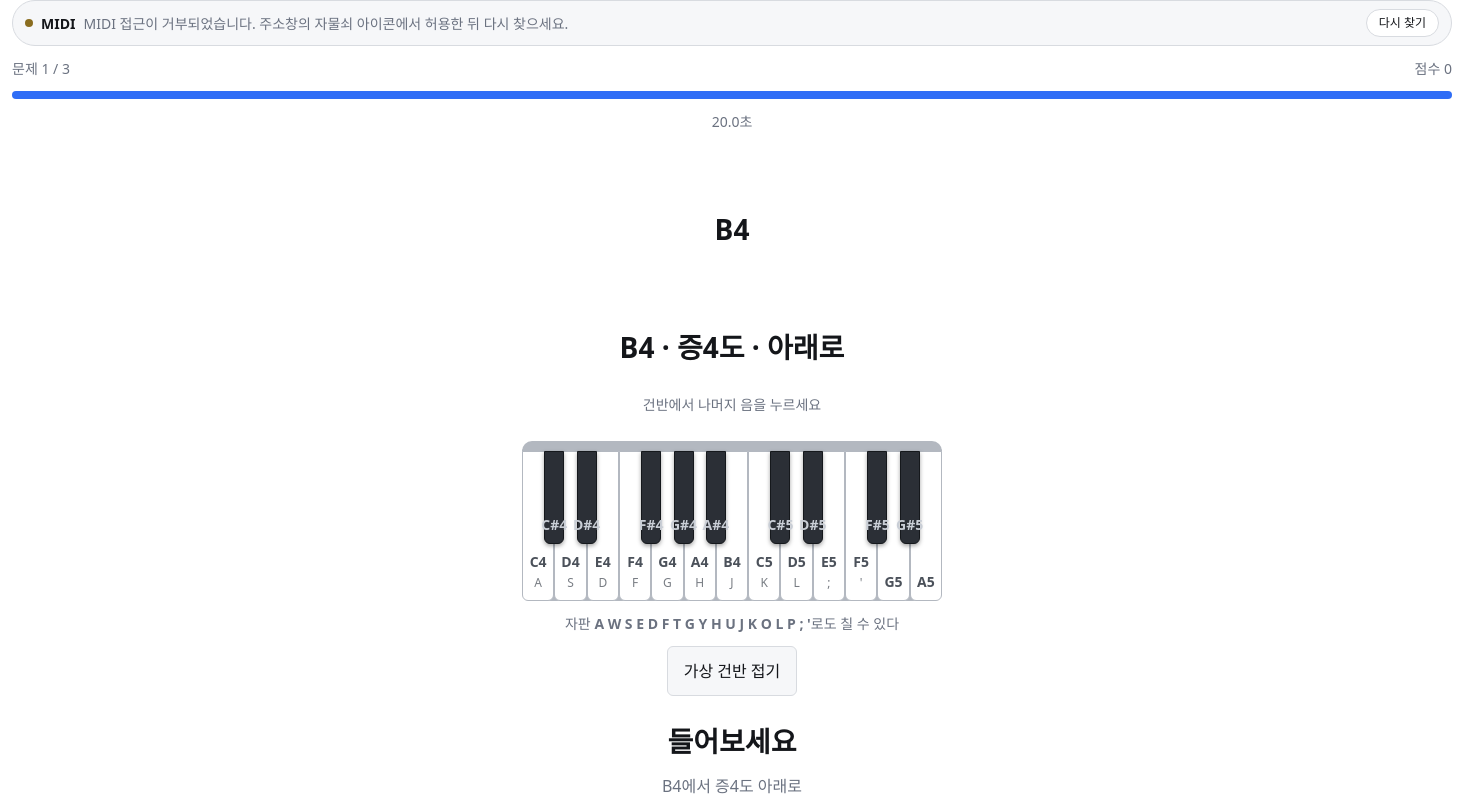
Scenario: 음정 해석 — 건반으로 음을 쌓는다 › 옥타브가 다르면 오답
Press the mouse on the button "F5 '" at coordinates (861, 526), box [845,451,877,601]
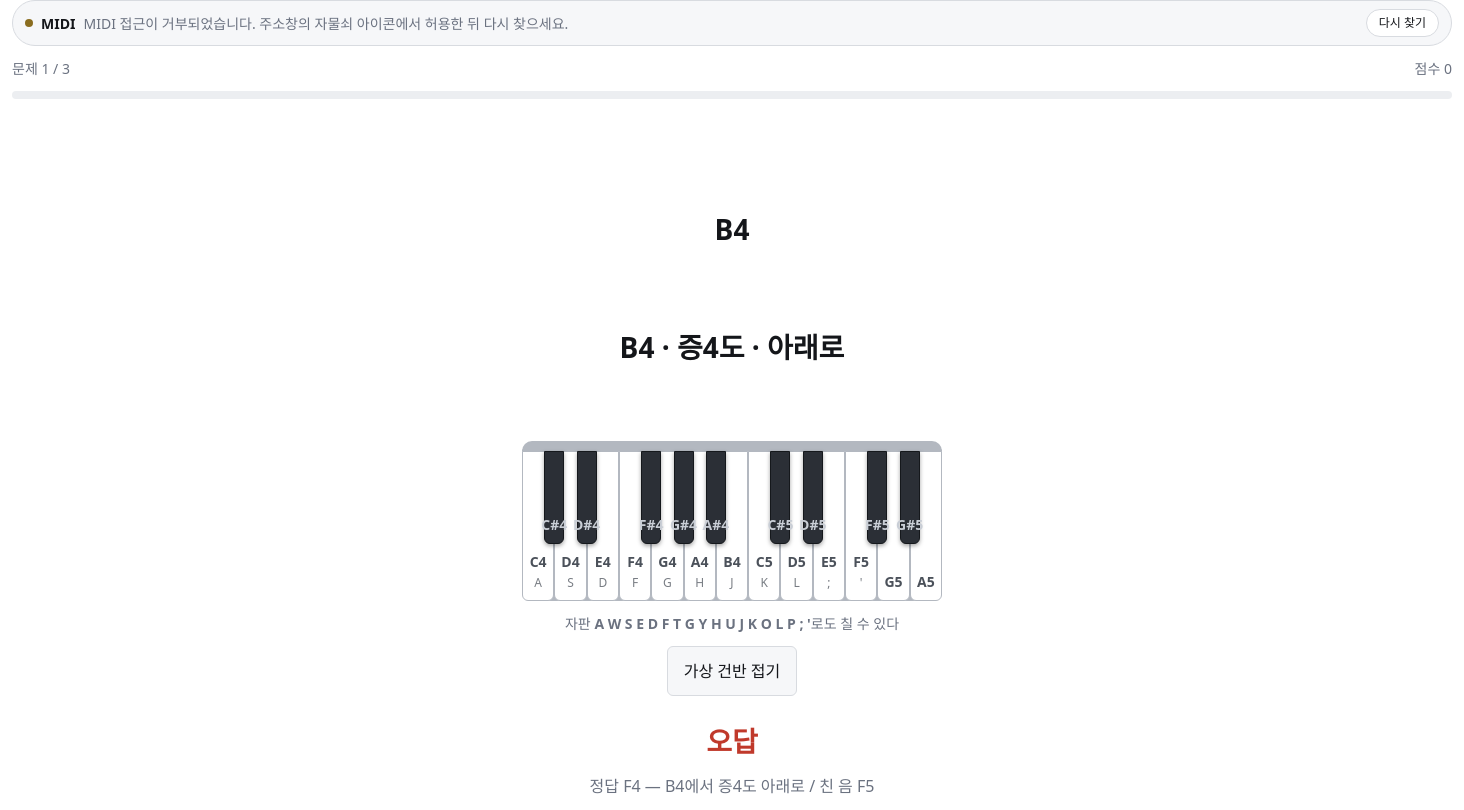
Now the text "오답" is shown, box [706,722,758,760]
